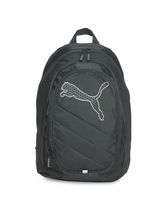bag: (26, 26, 134, 184)
